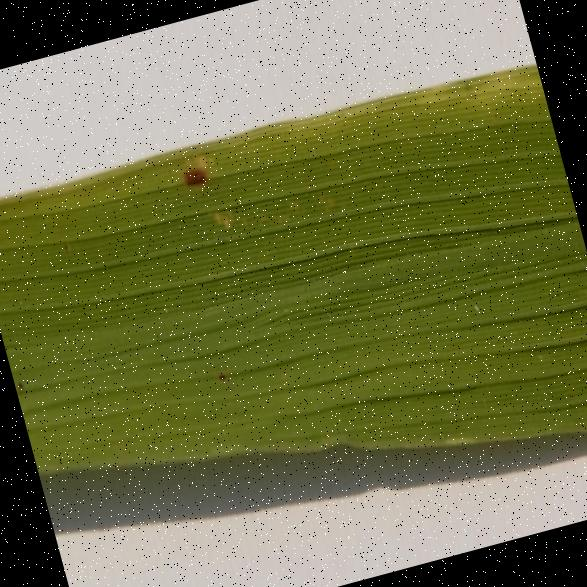Brown_Spot: (161, 146, 227, 220)
